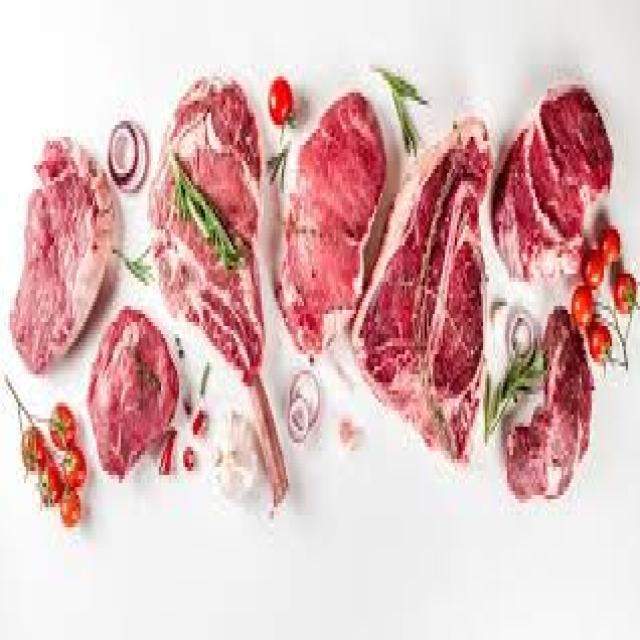Beef: (150, 75, 290, 517), (355, 108, 492, 491), (277, 90, 387, 360), (490, 72, 612, 289), (15, 132, 109, 382), (500, 306, 596, 502)
